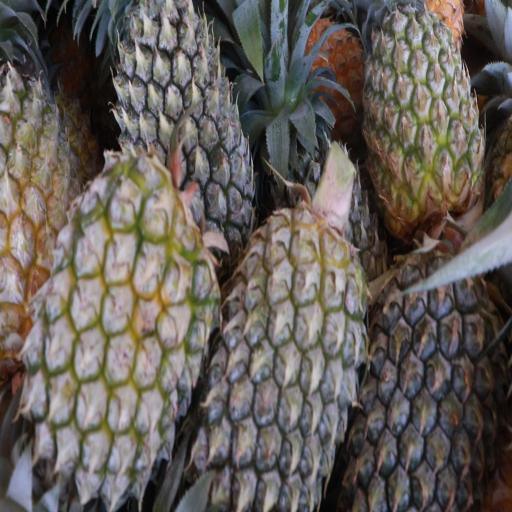------------------------------: (27, 173, 215, 504), (1, 0, 94, 350), (363, 0, 483, 230)
